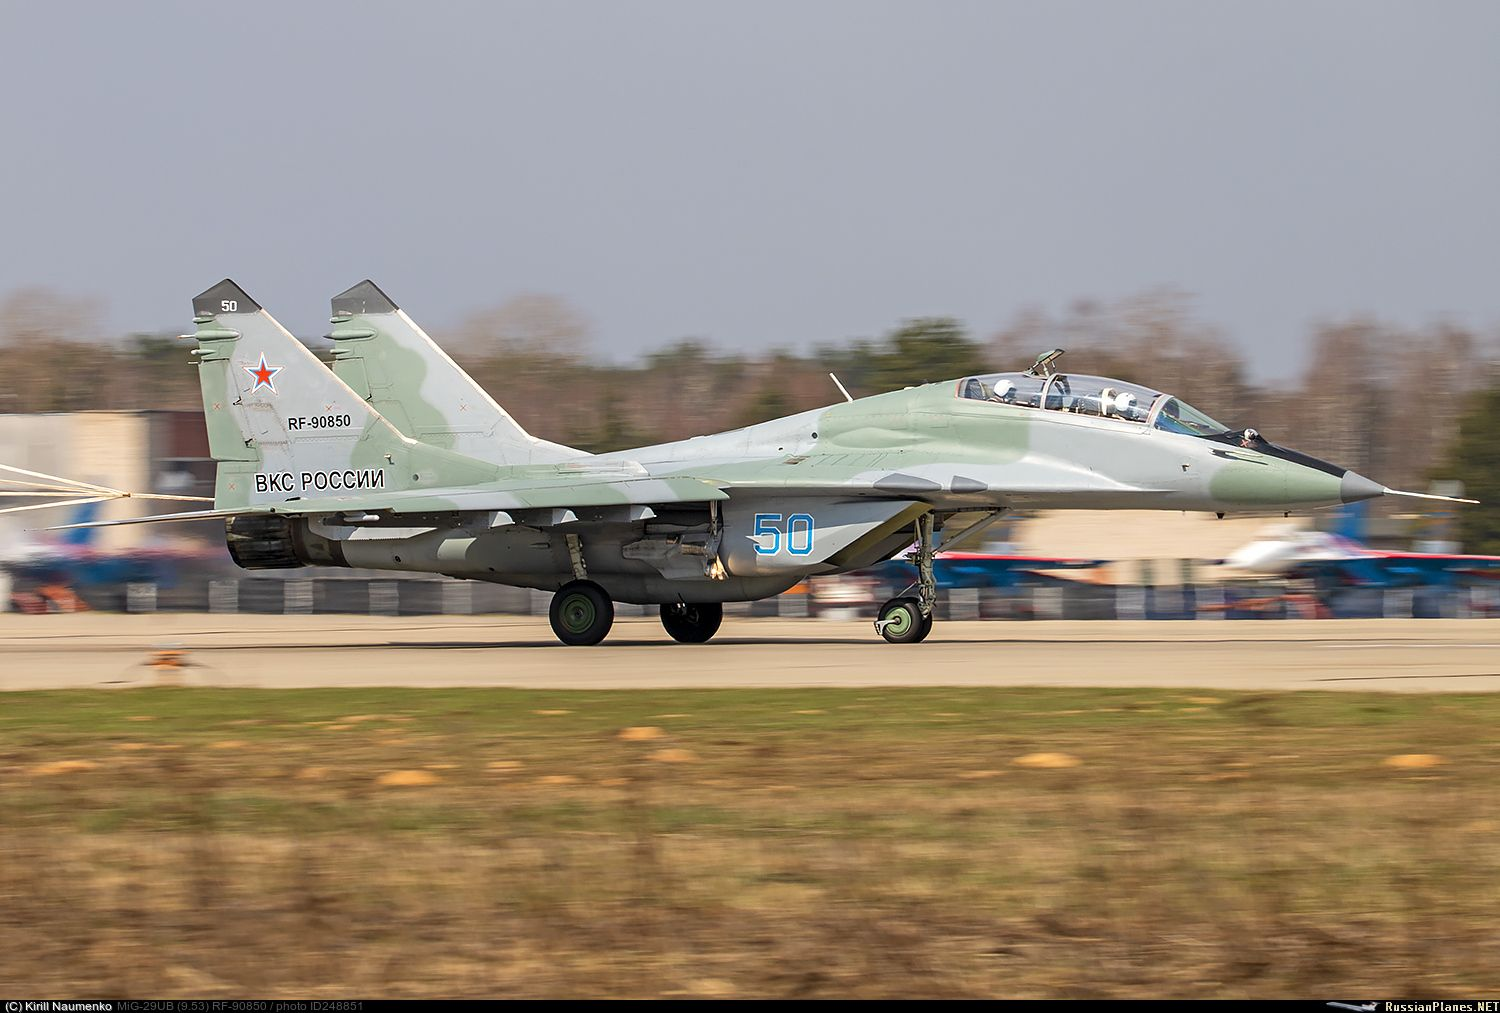Mig-29: (104, 210, 1469, 646)
